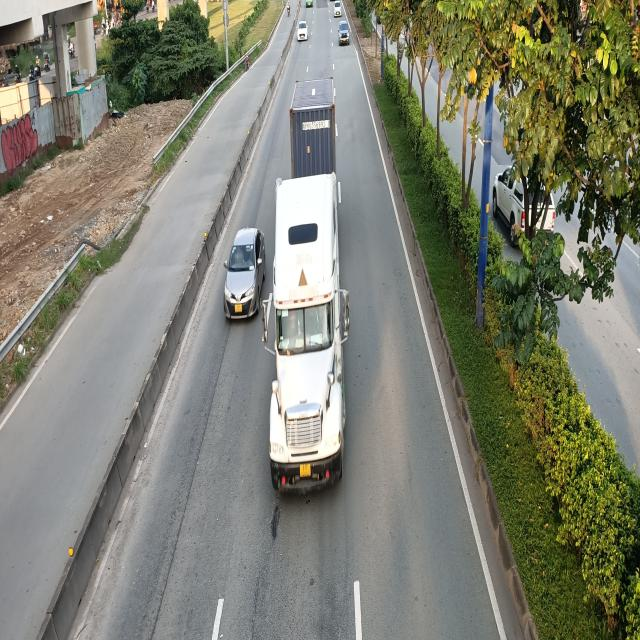car: (222, 228, 264, 324)
container: (264, 79, 348, 489)
